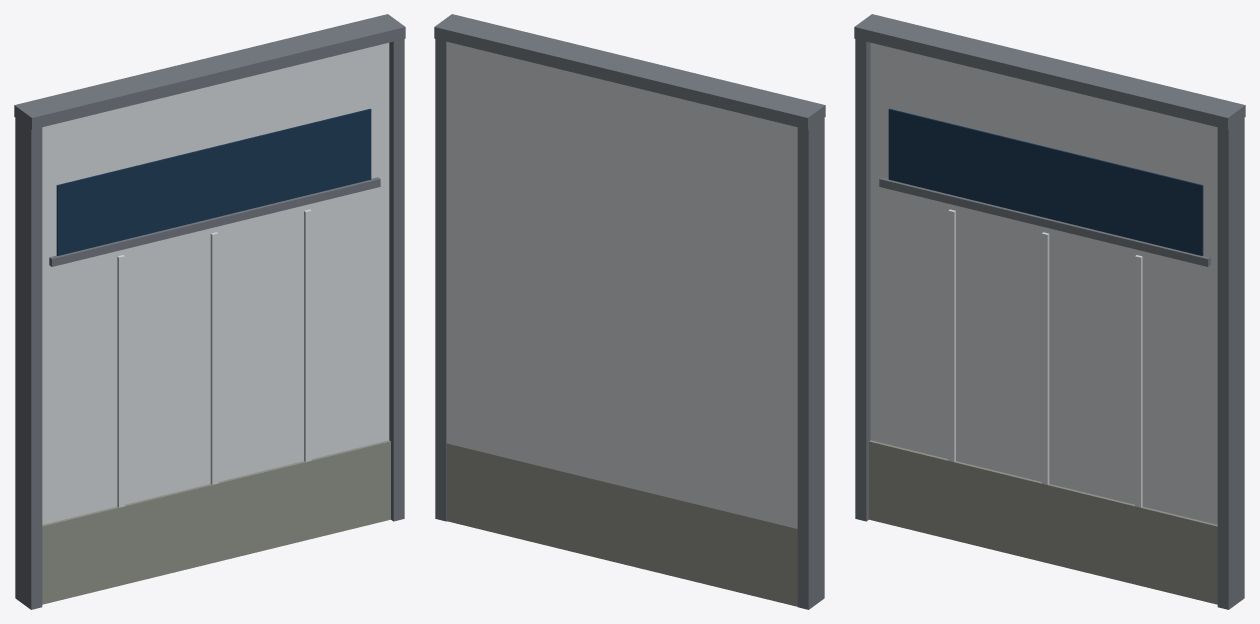
The model's file is mid-w1.fbx.
3 renders of one model, left to right at view 1: azimuth 30°, elevation 25°; view 2: azimuth 150°, elevation 25°; view 3: azimuth 330°, elevation 25°, orthographic.
Visible parts, largest first — view 1: a1041/0/mid-w1; view 2: a1041/0/mid-w1; view 3: a1041/0/mid-w1.
Part boxes in pixels (x1=…): a1041/0/mid-w1: x1=14, y1=14, x2=405, y2=609; a1041/0/mid-w1: x1=434, y1=14, x2=825, y2=609; a1041/0/mid-w1: x1=854, y1=14, x2=1245, y2=609.
Bounding box in the file's own units: 5 × 6.3 × 0.41.
